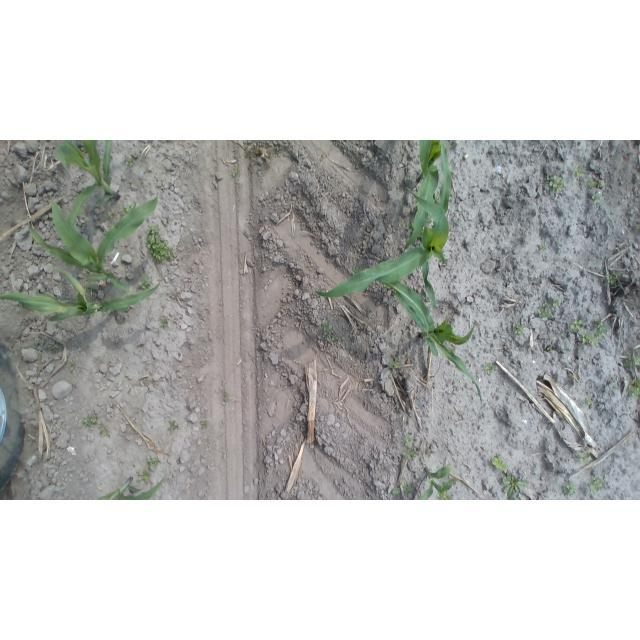Maize: (311, 140, 468, 310), (370, 270, 484, 407), (25, 196, 168, 297), (0, 265, 164, 323), (401, 141, 462, 256), (49, 141, 123, 232), (84, 465, 173, 500), (402, 459, 462, 500)
Weeds: (144, 224, 176, 268), (499, 472, 531, 500), (399, 434, 417, 463), (390, 478, 415, 498), (548, 173, 568, 195), (589, 475, 608, 496), (579, 331, 602, 348), (623, 353, 640, 375), (80, 412, 101, 429), (594, 317, 611, 338), (491, 455, 510, 473), (627, 376, 640, 401), (535, 302, 553, 320), (120, 202, 136, 219), (138, 273, 153, 290), (602, 272, 619, 287), (579, 450, 594, 467), (568, 316, 583, 332), (122, 153, 139, 167), (513, 319, 526, 337), (98, 425, 113, 440), (387, 355, 402, 370), (139, 470, 153, 486), (562, 483, 578, 497), (483, 362, 500, 375), (219, 391, 233, 406), (589, 192, 604, 206), (105, 210, 121, 223), (165, 419, 180, 432), (572, 165, 585, 180), (608, 377, 621, 392), (46, 341, 62, 353), (550, 297, 563, 311), (146, 456, 160, 469), (584, 397, 596, 412), (585, 178, 598, 190), (160, 317, 171, 330), (539, 242, 550, 253), (67, 361, 77, 373), (199, 421, 210, 431), (322, 323, 333, 333), (232, 167, 241, 179), (544, 343, 553, 354), (273, 146, 283, 155), (332, 334, 341, 343), (635, 223, 640, 233)
